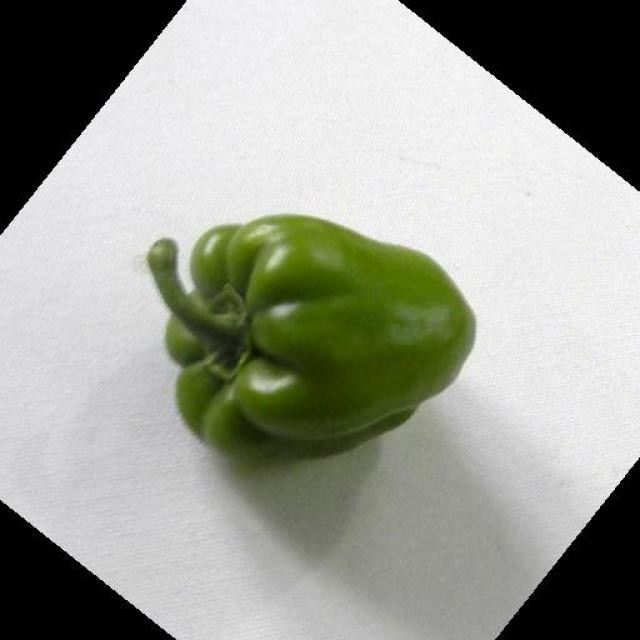Fresh_Capsicum: (181, 206, 462, 447)
